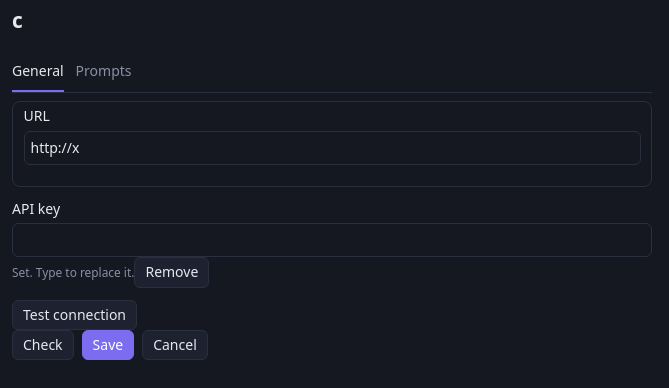
it: an object in the config gets its own tab, and the default shows there
Expected: the field labelled "URL" is shown, top-left (24, 131), bottom-right (640, 165)
What coordinates should you click on to do the following:
click the tab "Prompts"
I would click on:
 (104, 72)
Its box is top-left (76, 53), bottom-right (132, 92).
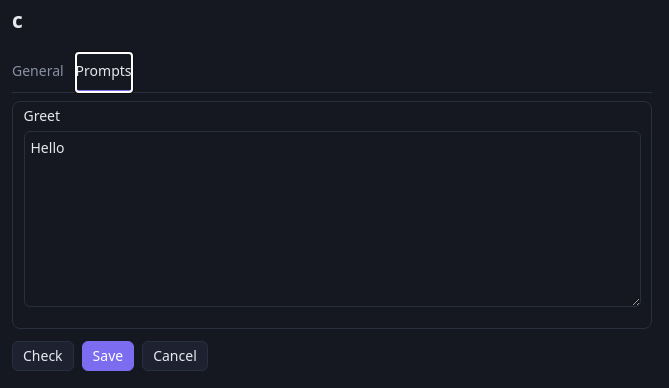
Now the text box labelled "Greet" holds "Hello", box top-left (24, 131), bottom-right (640, 307)
Now the text labelled "URL" is gone
